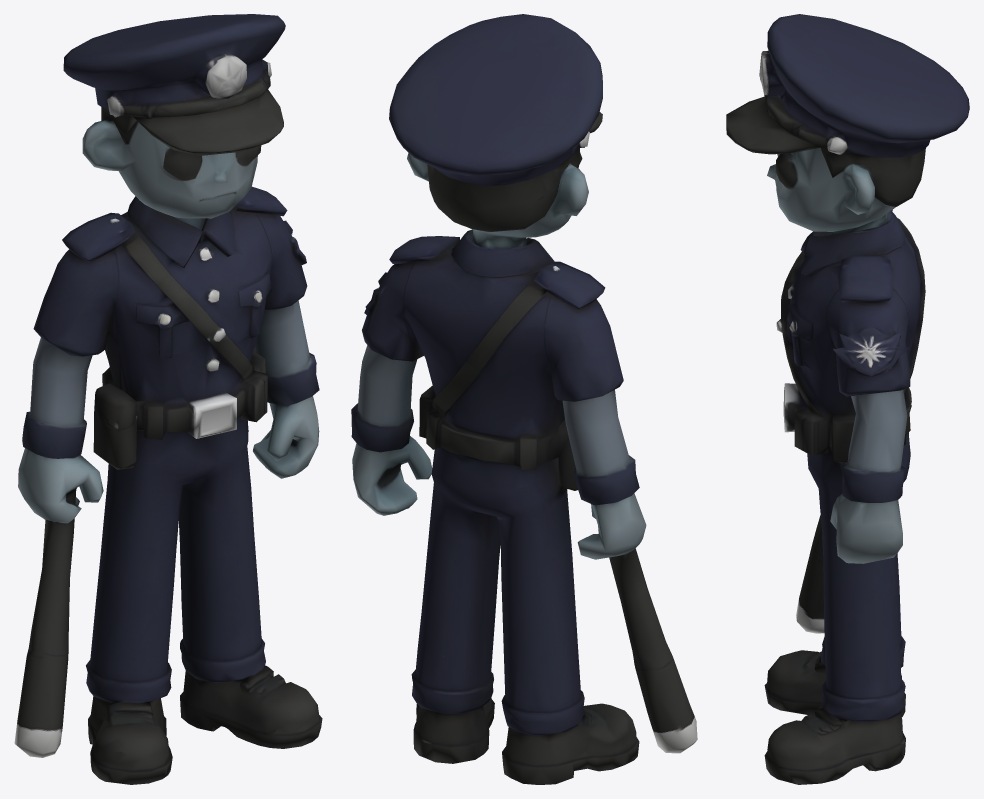
File: patrol.glb
3 renders of one model, left to right at view 1: azimuth 30°, elevation 25°; view 2: azimuth 150°, elevation 25°; view 3: azimuth 270°, elevation 25°, orthographic. The views are drawn at different scales.
Visible parts, largest first — view 1: tripo_node_18cd9632-0786-4ae7-8d34-aaa393b36939; view 2: tripo_node_18cd9632-0786-4ae7-8d34-aaa393b36939; view 3: tripo_node_18cd9632-0786-4ae7-8d34-aaa393b36939.
Boxes of the visible parts, box(x1,y1,x2,y2) form: tripo_node_18cd9632-0786-4ae7-8d34-aaa393b36939: box(14, 14, 322, 784); tripo_node_18cd9632-0786-4ae7-8d34-aaa393b36939: box(351, 14, 697, 784); tripo_node_18cd9632-0786-4ae7-8d34-aaa393b36939: box(726, 14, 969, 784).
Bounding box in the file's own units: 0.4631 × 1 × 0.3129.
1 material, 1 textured.
